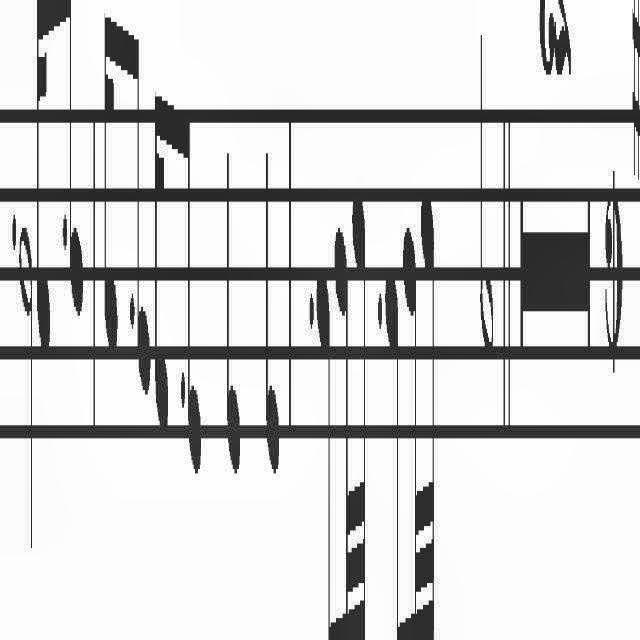Diez: (630, 0, 640, 184)
Eighth-note: (314, 245, 334, 640), (132, 21, 152, 403), (185, 88, 203, 482), (385, 250, 403, 640), (67, 0, 85, 320)
Half-note: (478, 14, 497, 372), (19, 207, 35, 561)
Quarter-note: (224, 137, 244, 497), (263, 132, 281, 514)
Sixteenth-note: (35, 0, 53, 364), (154, 67, 170, 441), (103, 1, 119, 360)
